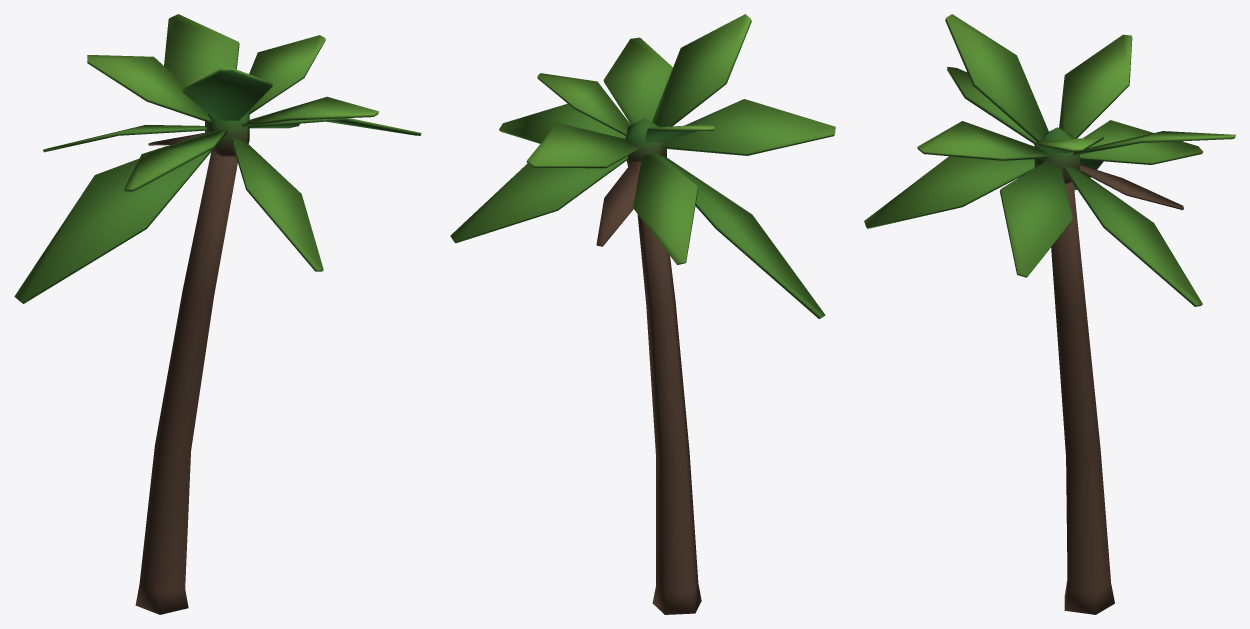
The model's file is fanpalm.lod2.glb.
3 renders of one model, left to right at view 1: azimuth 30°, elevation 25°; view 2: azimuth 150°, elevation 25°; view 3: azimuth 270°, elevation 25°, orthographic. The views are drawn at different scales.
Parts seen in each view (by area): view 1: fanpalm_s1_lod2; view 2: fanpalm_s1_lod2; view 3: fanpalm_s1_lod2.
Part boxes in pixels (x1=…): fanpalm_s1_lod2: x1=14, y1=14, x2=421, y2=614; fanpalm_s1_lod2: x1=450, y1=14, x2=835, y2=614; fanpalm_s1_lod2: x1=864, y1=14, x2=1235, y2=614.
Size of the model in its own units: 6.58 by 9.84 by 5.66.
